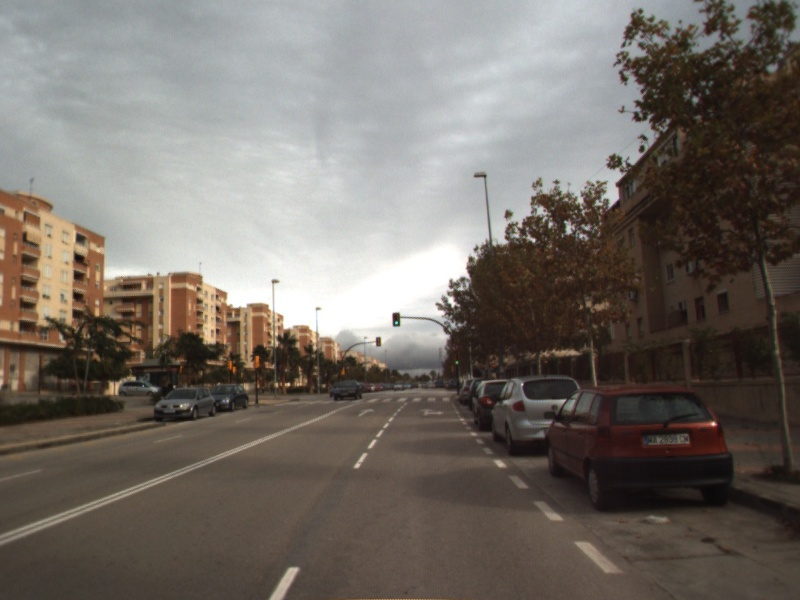STRAIGHT: (356, 406, 377, 418)
STRAIGHT_RIGHT: (418, 406, 447, 418)
